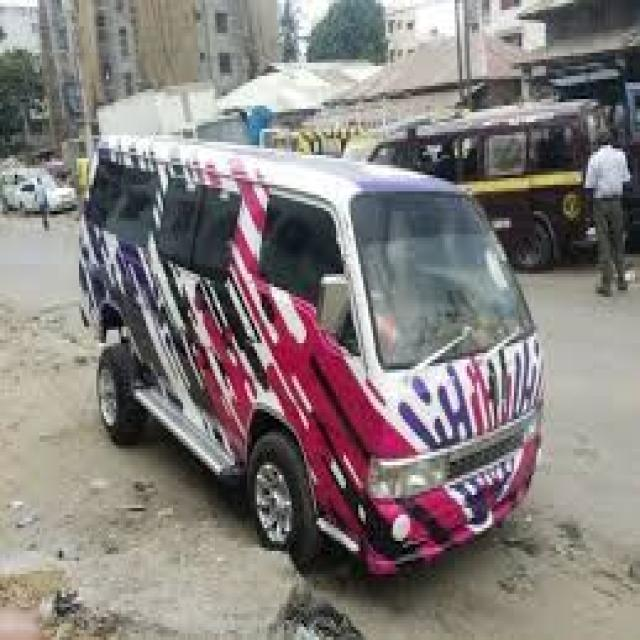matatu: (55, 73, 572, 587)
